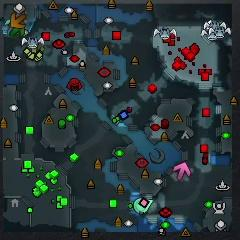p2: (133, 198, 154, 213)
x1: (173, 162, 191, 180)
x2: (28, 42, 44, 54)
x3: (5, 19, 11, 25)
x4: (8, 20, 25, 37)
x5: (11, 13, 26, 28)
